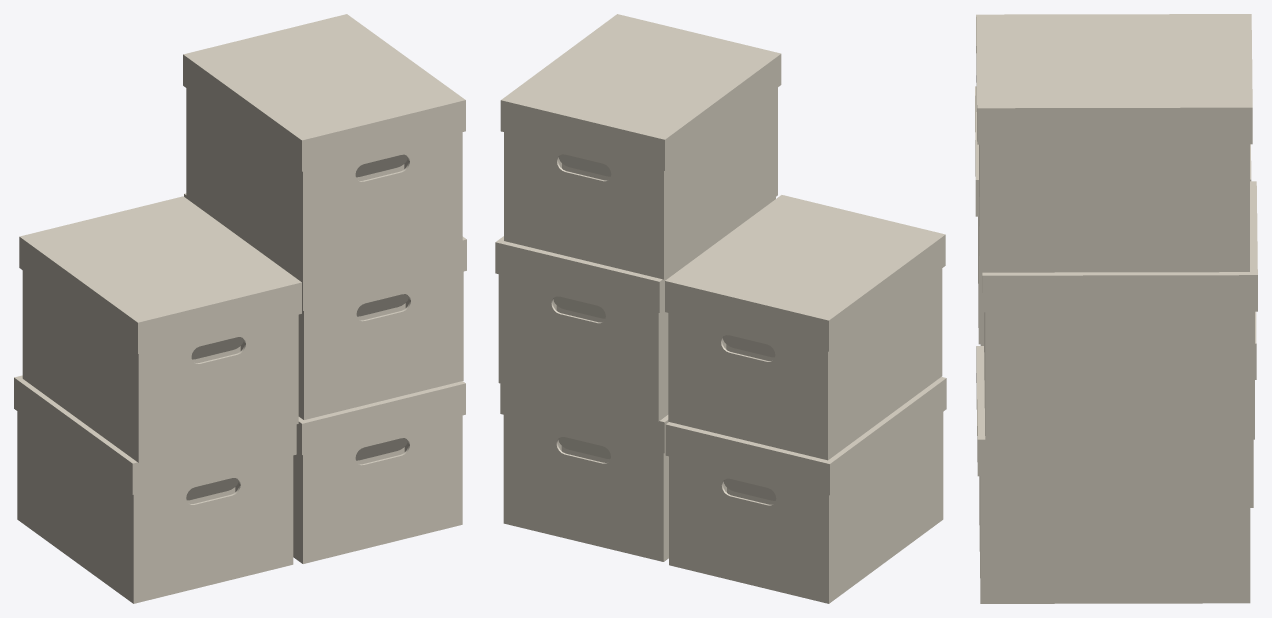
The model's file is Kit_RecordsCarton_Stack5.fbx.
3 views of the same model, side by side, from view 1: azimuth 30°, elevation 25°; view 2: azimuth 150°, elevation 25°; view 3: azimuth 270°, elevation 25° (orthographic). The views are drawn at different scales.
Parts seen in each view (by area): view 1: Kit_RecordsCarton_Stack5_LOD0; view 2: Kit_RecordsCarton_Stack5_LOD0; view 3: Kit_RecordsCarton_Stack5_LOD0.
Boxes of the visible parts, x1,y1,x2,y2 form: Kit_RecordsCarton_Stack5_LOD0: [14, 14, 466, 603]; Kit_RecordsCarton_Stack5_LOD0: [495, 14, 946, 603]; Kit_RecordsCarton_Stack5_LOD0: [975, 14, 1257, 603].
Size of what is drawn, in the model's own units: 0.6396 by 0.774 by 0.3993.
